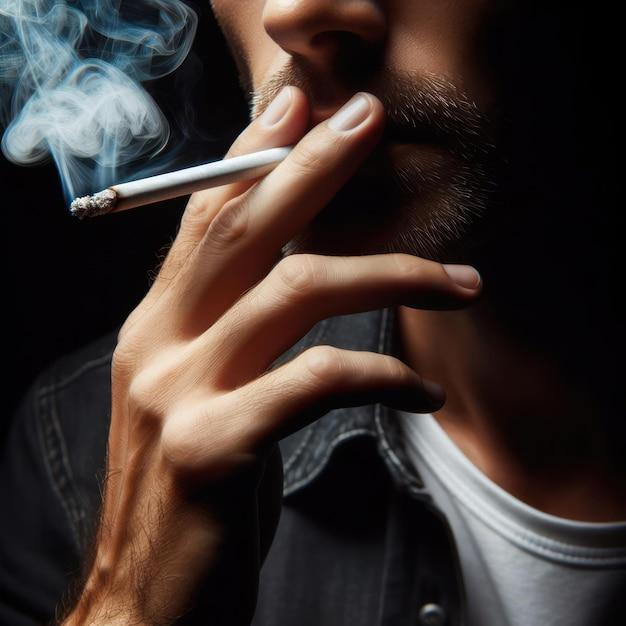cigarette: (70, 146, 292, 218)
